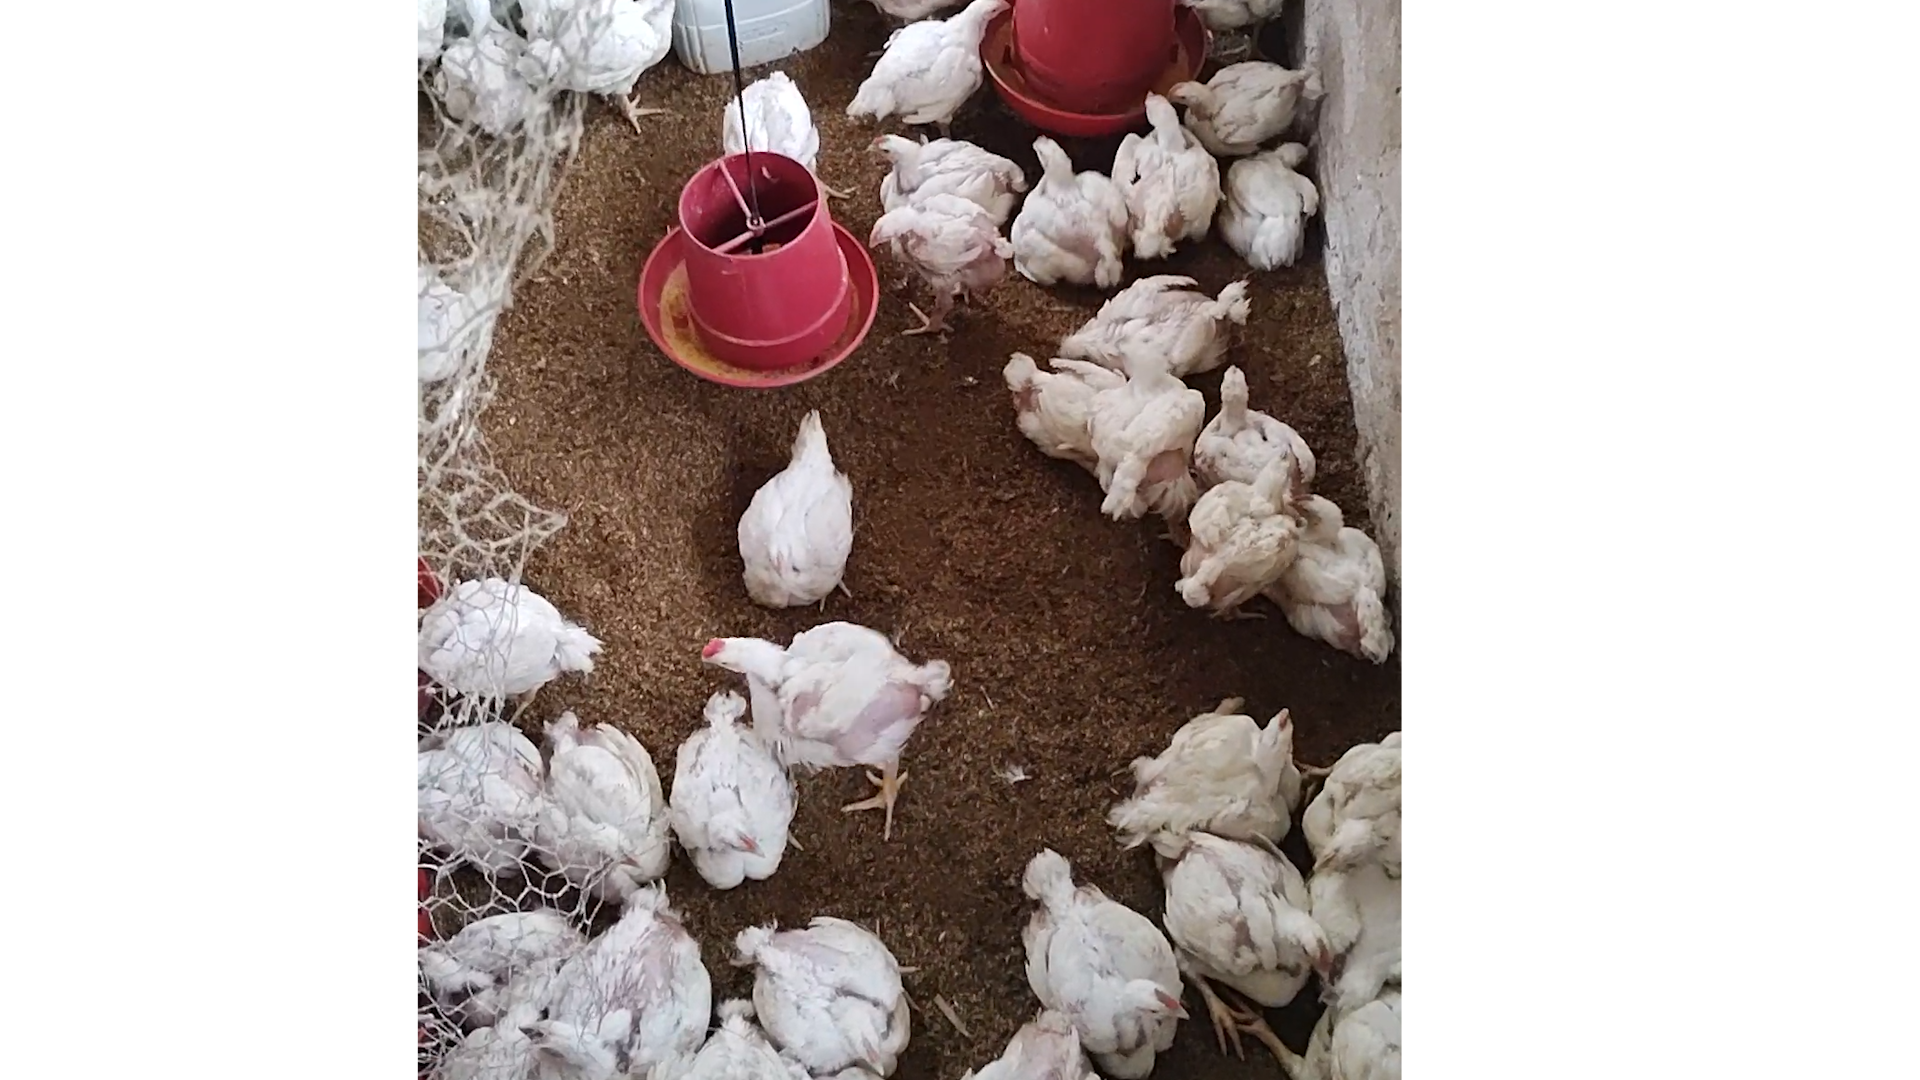Pollos: (674, 625, 945, 833), (1007, 841, 1191, 1069), (1163, 824, 1335, 1030), (725, 909, 913, 1069), (717, 407, 866, 605), (661, 683, 799, 872), (1079, 323, 1207, 525), (1131, 688, 1294, 845), (419, 568, 607, 696), (1174, 439, 1304, 617), (858, 198, 1010, 344), (843, 0, 1011, 131), (538, 715, 665, 887), (549, 0, 698, 145), (1290, 480, 1395, 665), (1106, 86, 1218, 256), (1050, 276, 1247, 368), (709, 66, 843, 195), (1014, 125, 1124, 280), (1220, 135, 1333, 272), (866, 121, 1022, 220), (1004, 335, 1120, 463), (1208, 353, 1313, 488), (1311, 713, 1396, 872), (1162, 57, 1312, 146)
